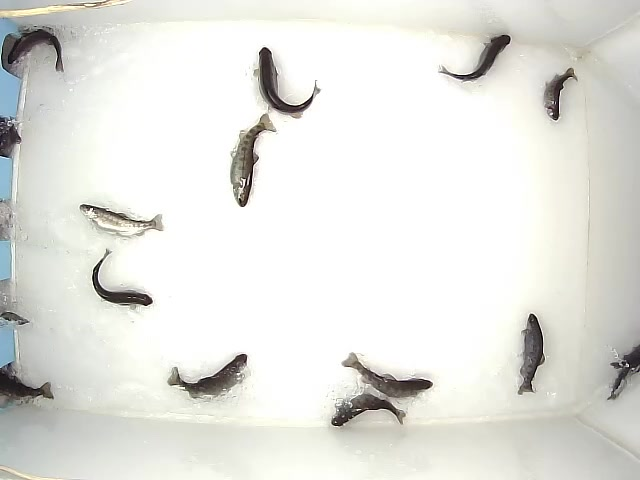fish: (251, 46, 323, 120), (228, 113, 277, 208), (341, 351, 433, 399), (91, 247, 154, 310), (436, 32, 513, 83), (167, 353, 248, 400), (79, 204, 165, 239), (6, 27, 66, 73), (330, 393, 407, 428), (517, 312, 546, 398), (541, 66, 580, 122)
